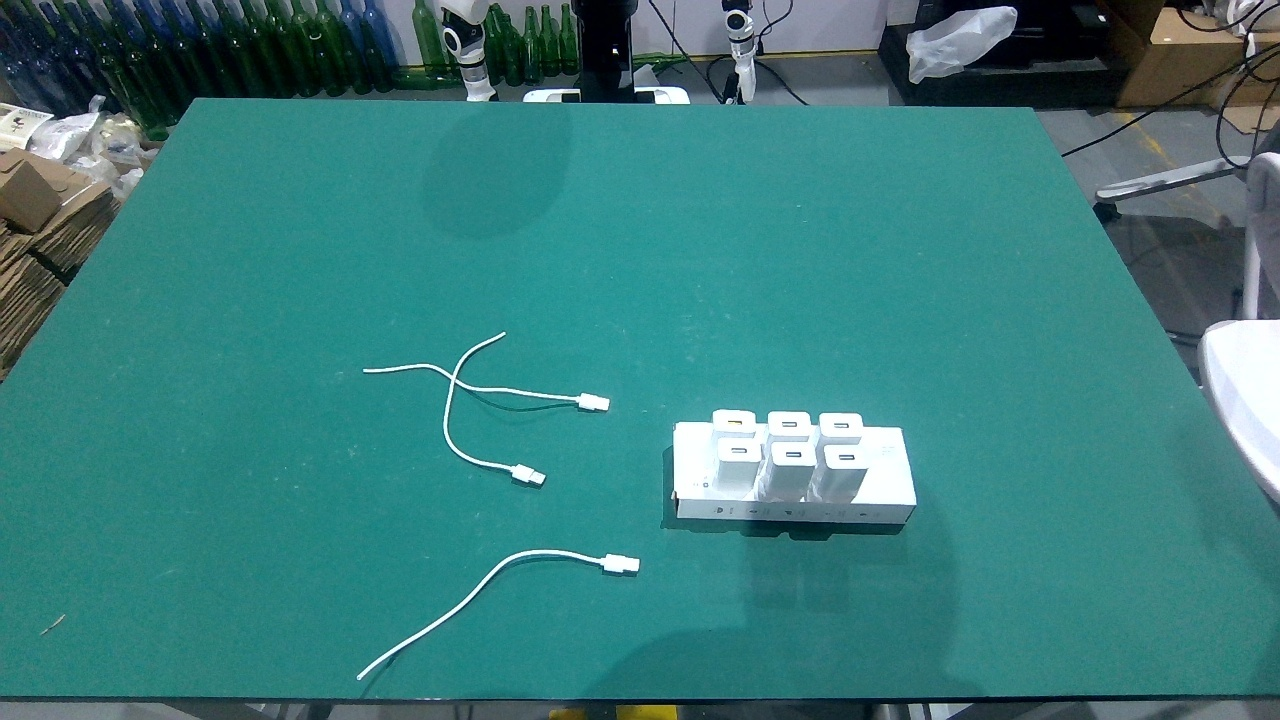usb_a_port: (778, 419, 800, 431), (728, 444, 750, 456), (831, 420, 854, 431), (782, 449, 805, 460), (725, 416, 746, 428), (835, 452, 859, 462)
